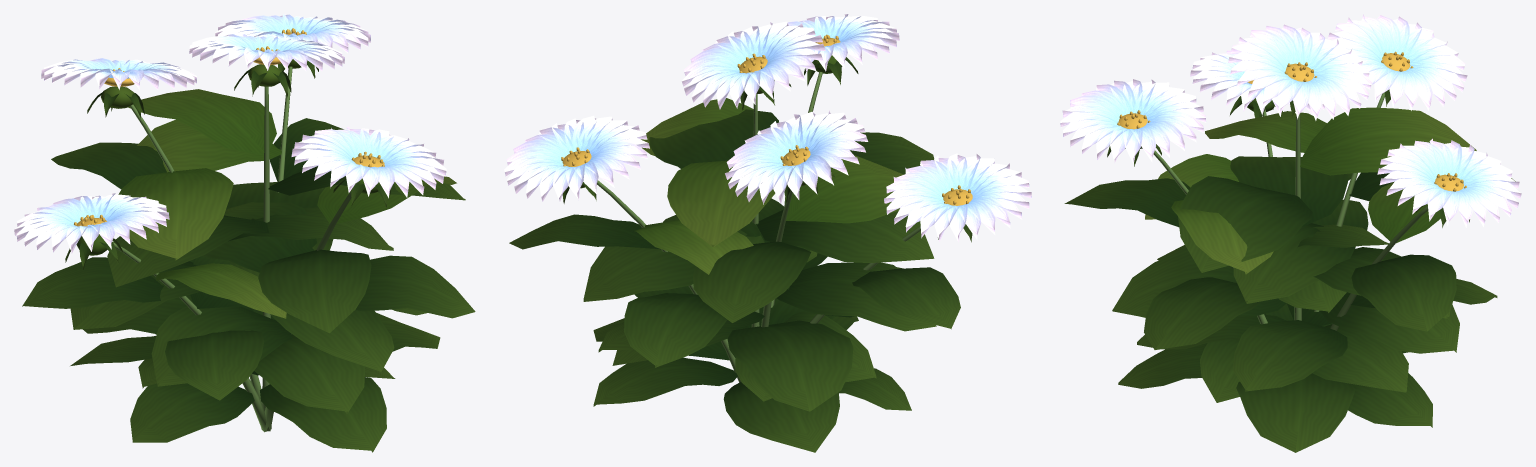
File: daisy-dream-10-lod.glb
The picture shows the model from 3 angles, left to right: view 1: azimuth 30°, elevation 25°; view 2: azimuth 150°, elevation 25°; view 3: azimuth 270°, elevation 25°; orthographic projection. The views are drawn at different scales.
Visible parts, largest first — view 1: daisy_dream_stage_10_leaf_veins.021, daisy_dream_stage_10_daisy_petal.021, daisy_dream_stage_10_young_leaf.021, daisy_dream_stage_10_stem_fibres.021, daisy_dream_stage_10_pollen_granules.021; view 2: daisy_dream_stage_10_leaf_veins.021, daisy_dream_stage_10_daisy_petal.021, daisy_dream_stage_10_young_leaf.021, daisy_dream_stage_10_stem_fibres.021, daisy_dream_stage_10_pollen_granules.021; view 3: daisy_dream_stage_10_leaf_veins.021, daisy_dream_stage_10_daisy_petal.021, daisy_dream_stage_10_young_leaf.021, daisy_dream_stage_10_stem_fibres.021, daisy_dream_stage_10_pollen_granules.021.
Part boxes in pixels (x1,y1,x2,y2): daisy_dream_stage_10_leaf_veins.021: [22, 60, 475, 452]; daisy_dream_stage_10_daisy_petal.021: [14, 14, 446, 253]; daisy_dream_stage_10_young_leaf.021: [76, 59, 456, 318]; daisy_dream_stage_10_stem_fibres.021: [113, 66, 351, 432]; daisy_dream_stage_10_pollen_granules.021: [74, 28, 384, 226]; daisy_dream_stage_10_leaf_veins.021: [509, 57, 972, 452]; daisy_dream_stage_10_daisy_petal.021: [504, 14, 1031, 241]; daisy_dream_stage_10_young_leaf.021: [580, 55, 920, 274]; daisy_dream_stage_10_stem_fibres.021: [597, 72, 920, 382]; daisy_dream_stage_10_pollen_granules.021: [561, 34, 972, 205]; daisy_dream_stage_10_leaf_veins.021: [1064, 89, 1515, 452]; daisy_dream_stage_10_daisy_petal.021: [1060, 14, 1521, 227]; daisy_dream_stage_10_young_leaf.021: [1125, 98, 1476, 274]; daisy_dream_stage_10_stem_fibres.021: [1153, 92, 1428, 330]; daisy_dream_stage_10_pollen_granules.021: [1117, 51, 1466, 191].
Bounding box in the file's own units: 0.4146 × 0.3498 × 0.391.
5 materials, 3 textured.
